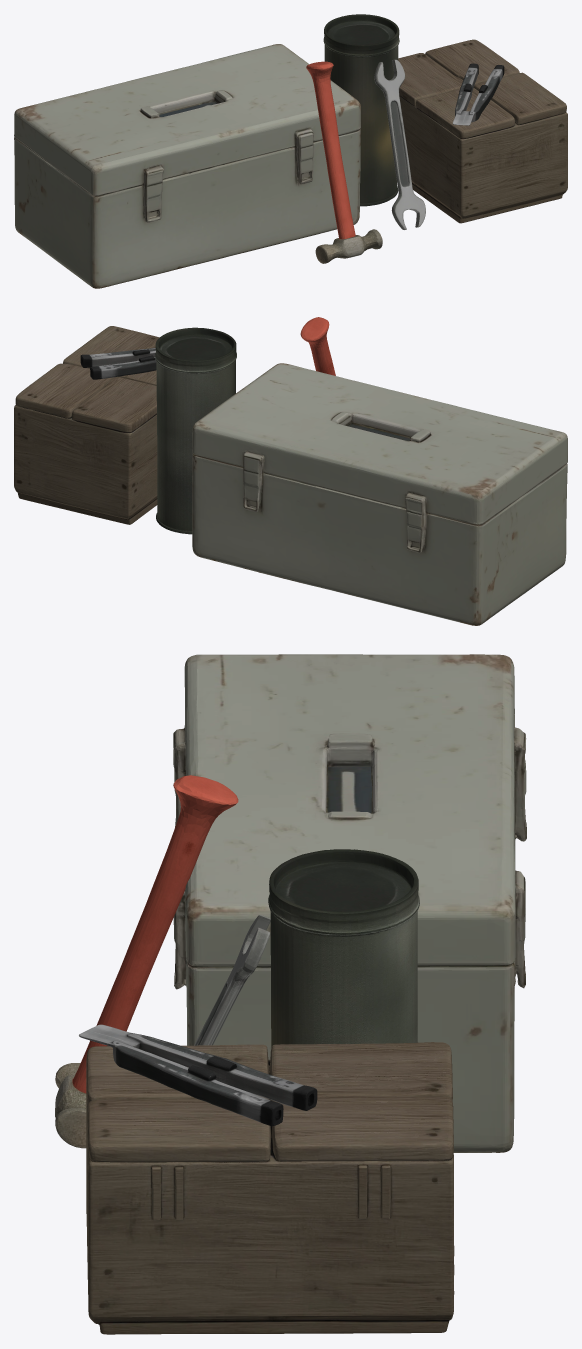
The model's file is phi-scene.glb.
The picture shows the model from 3 angles, top to bottom: view 1: azimuth 30°, elevation 25°; view 2: azimuth 150°, elevation 25°; view 3: azimuth 270°, elevation 25°; orthographic projection. The views are drawn at different scales.
Parts seen in each view (by area): view 1: object_05, object_04, object_03, object_02, object_01, object_00; view 2: object_05, object_04, object_03, object_00, object_02; view 3: object_05, object_04, object_03, object_02, object_00, object_01.
Part boxes in pixels (<box>): object_05: <box>14,44,360,288</box>; object_04: <box>398,39,567,223</box>; object_03: <box>323,14,399,206</box>; object_02: <box>306,61,382,263</box>; object_01: <box>374,59,425,229</box>; object_00: <box>452,63,504,125</box>; object_05: <box>192,363,567,625</box>; object_04: <box>14,326,159,524</box>; object_03: <box>155,327,236,534</box>; object_00: <box>80,348,156,379</box>; object_02: <box>300,317,335,375</box>; object_05: <box>173,654,526,1152</box>; object_04: <box>86,1042,454,1334</box>; object_03: <box>268,849,419,1047</box>; object_02: <box>55,775,238,1148</box>; object_00: <box>79,1024,317,1126</box>; object_01: <box>194,915,270,1045</box>.
Size of the model in its own units: 0.9913 by 0.3634 by 0.4476.
Materials: 6 (6 with a texture image).
